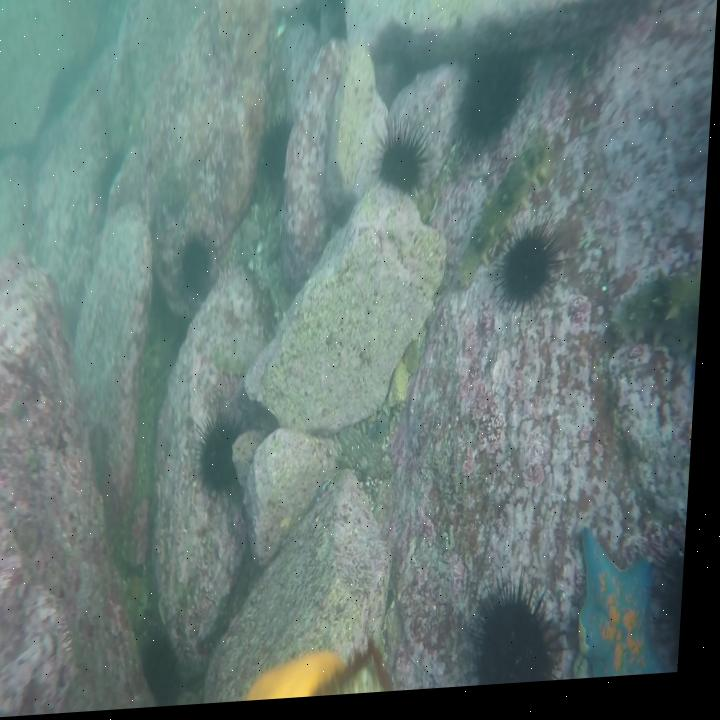echinus: (475, 580, 575, 693), (455, 46, 534, 166), (496, 220, 563, 320), (195, 417, 253, 502), (377, 116, 434, 200), (142, 636, 193, 711), (174, 238, 225, 303), (257, 118, 301, 181)
holothurian: (453, 137, 554, 304), (608, 277, 705, 362)
starfish: (577, 527, 678, 688)
